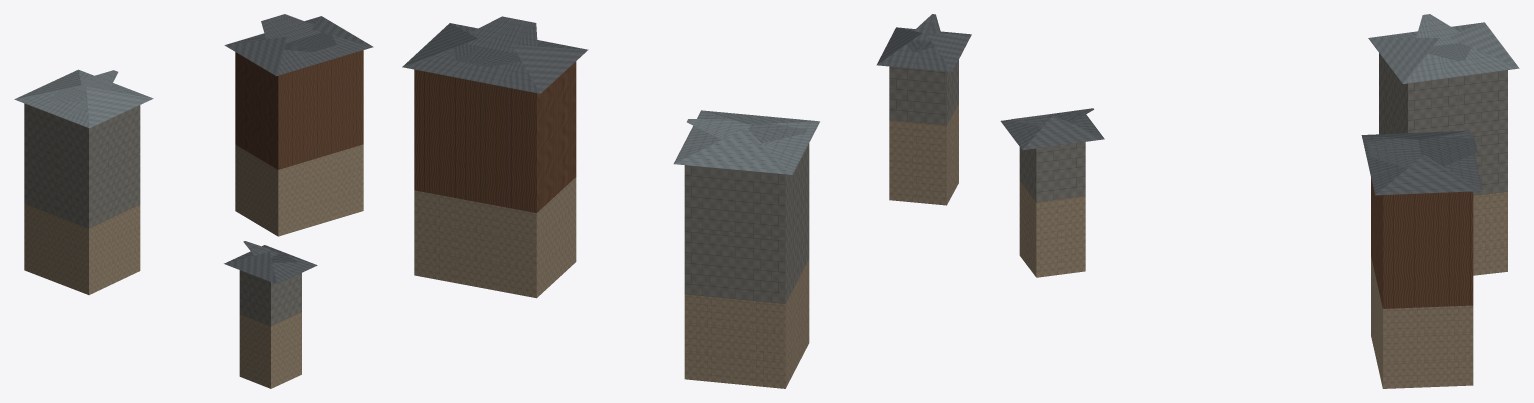
The model's file is bld_c11_18_435.gltf.
The picture shows the model from 3 angles, left to right: view 1: azimuth 30°, elevation 25°; view 2: azimuth 150°, elevation 25°; view 3: azimuth 270°, elevation 25°; orthographic projection. The views are drawn at different scales.
Parts seen in each view (by area): view 1: bld_c11_18_435; view 2: bld_c11_18_435; view 3: bld_c11_18_435.
Part boxes in pixels (x1,y1,x2,y2): bld_c11_18_435: (14, 14, 373, 388); bld_c11_18_435: (402, 14, 971, 388); bld_c11_18_435: (1000, 14, 1519, 388).
Size of the model in its own units: 25.16 by 14.8 by 29.99.
5 materials, 5 textured.
